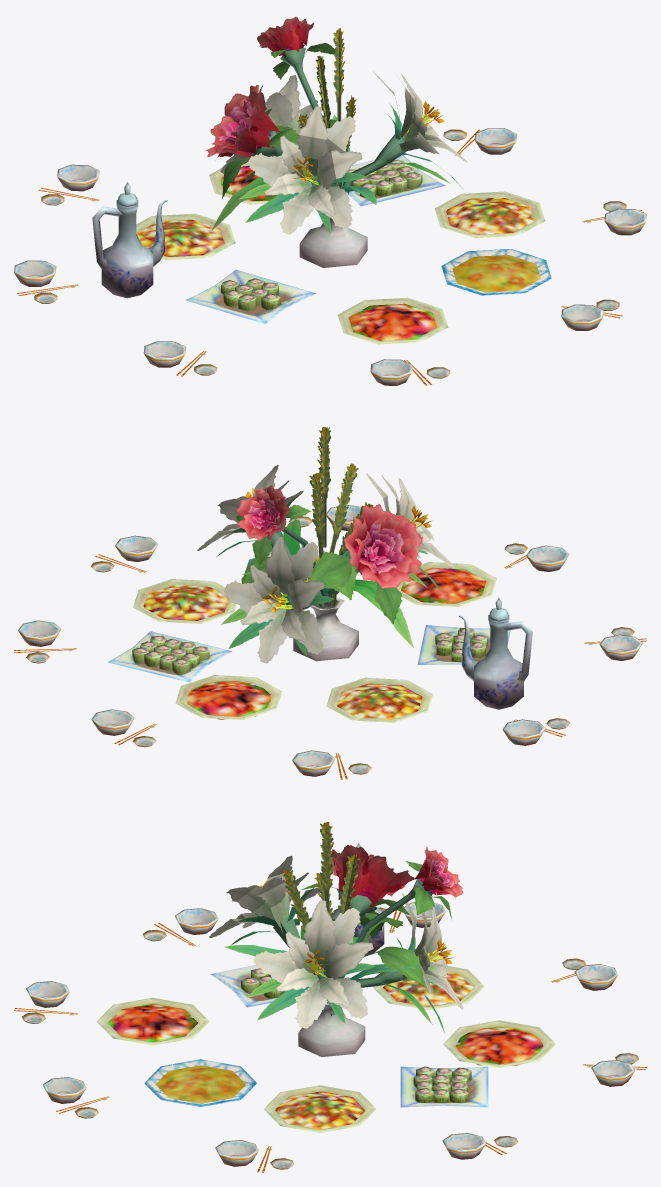
3 views of the same model, one above another, from view 1: azimuth 30°, elevation 25°; view 2: azimuth 150°, elevation 25°; view 3: azimuth 270°, elevation 25° (orthographic). The views are drawn at different scales.
Visible parts, largest first — view 1: hua; view 2: hua; view 3: hua.
Part boxes in pixels (x1,y1,x2,y2): hua: (14, 17, 646, 385); hua: (14, 427, 646, 779); hua: (14, 822, 646, 1172).
Bounding box in the file's own units: 9.65 × 3.92 × 9.65.
